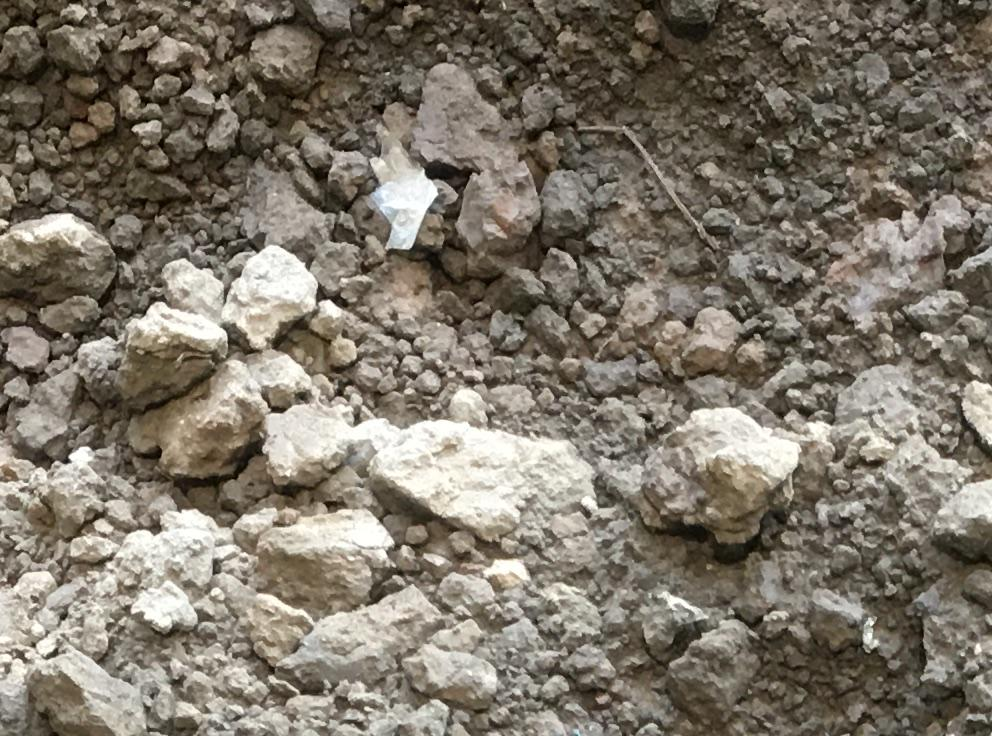block: (368, 413, 591, 543), (638, 405, 793, 557), (130, 363, 257, 484), (252, 507, 372, 598), (27, 650, 152, 736), (1, 219, 119, 308), (119, 305, 225, 399), (261, 397, 351, 488)
